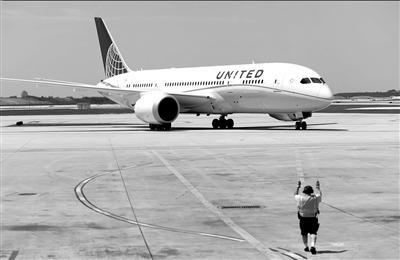airplane: (1, 16, 334, 134)
